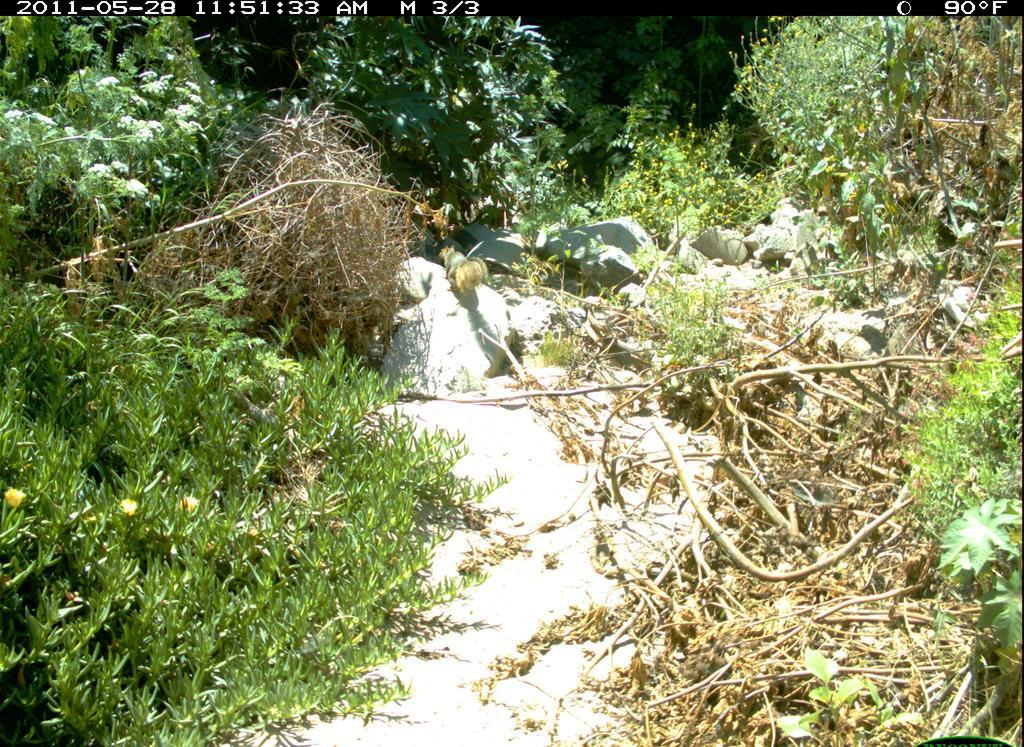squirrel: (433, 231, 497, 305)
